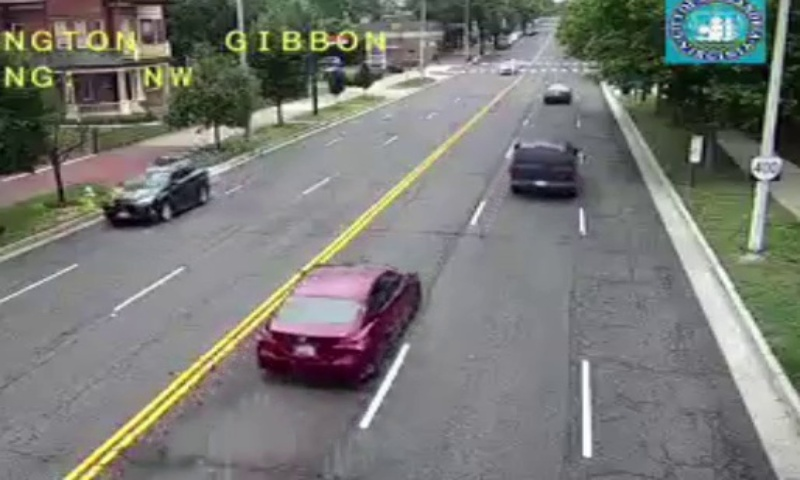car: (256, 264, 420, 379), (510, 141, 575, 193), (541, 83, 569, 104)
